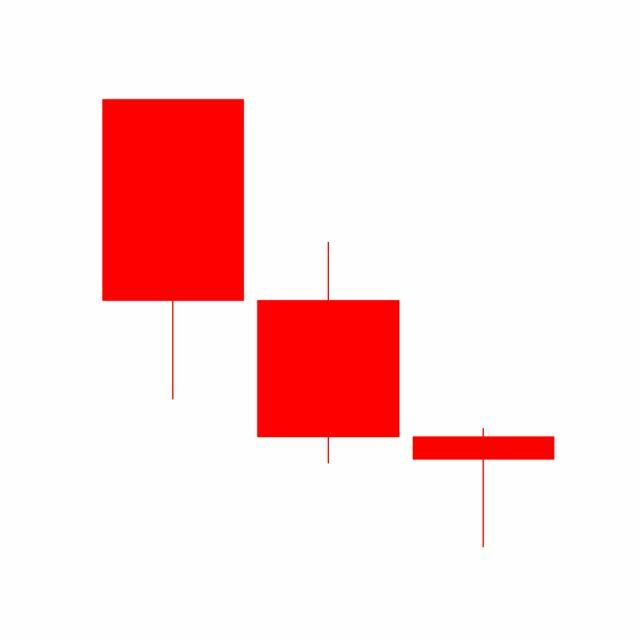Hammer: (406, 427, 562, 550)
